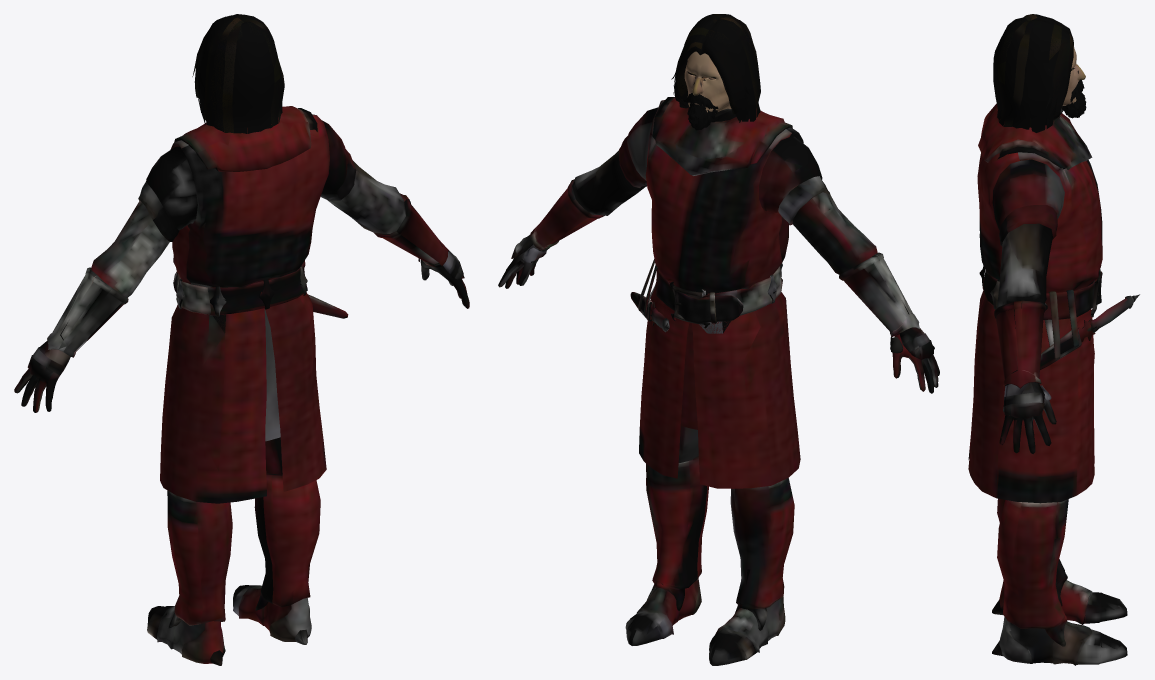
3 renders of one model, left to right at view 1: azimuth 30°, elevation 25°; view 2: azimuth 150°, elevation 25°; view 3: azimuth 270°, elevation 25°, orthographic. The views are drawn at different scales.
Visible parts, largest first — view 1: mesh_0; view 2: mesh_0; view 3: mesh_0.
Part boxes in pixels (bbox=[...]): mesh_0: bbox=[14, 14, 469, 665]; mesh_0: bbox=[498, 14, 939, 665]; mesh_0: bbox=[968, 14, 1139, 665].
Size of the model in its own units: 53.89 by 72.87 by 18.41.
Materials: 1 (1 with a texture image).
